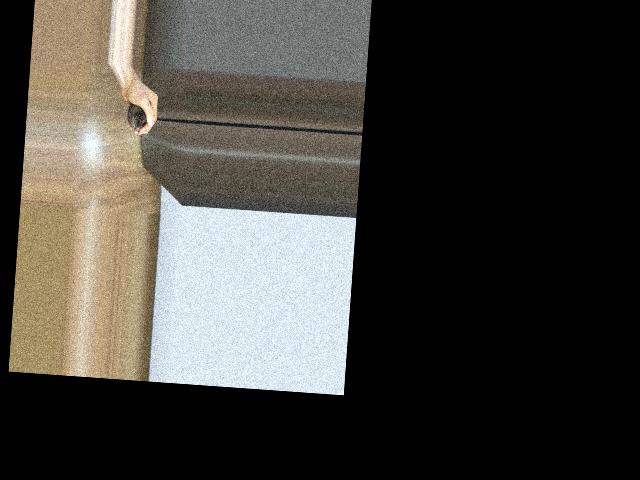beet: (126, 103, 167, 133)
